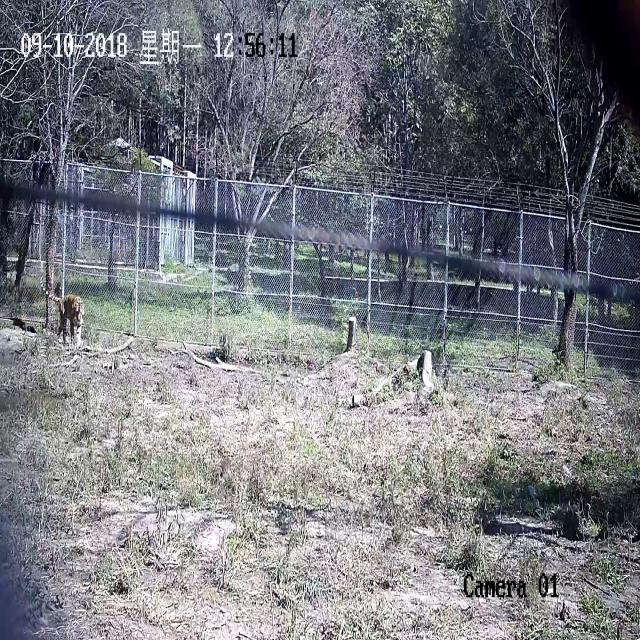Tiger: (24, 234, 113, 383)
